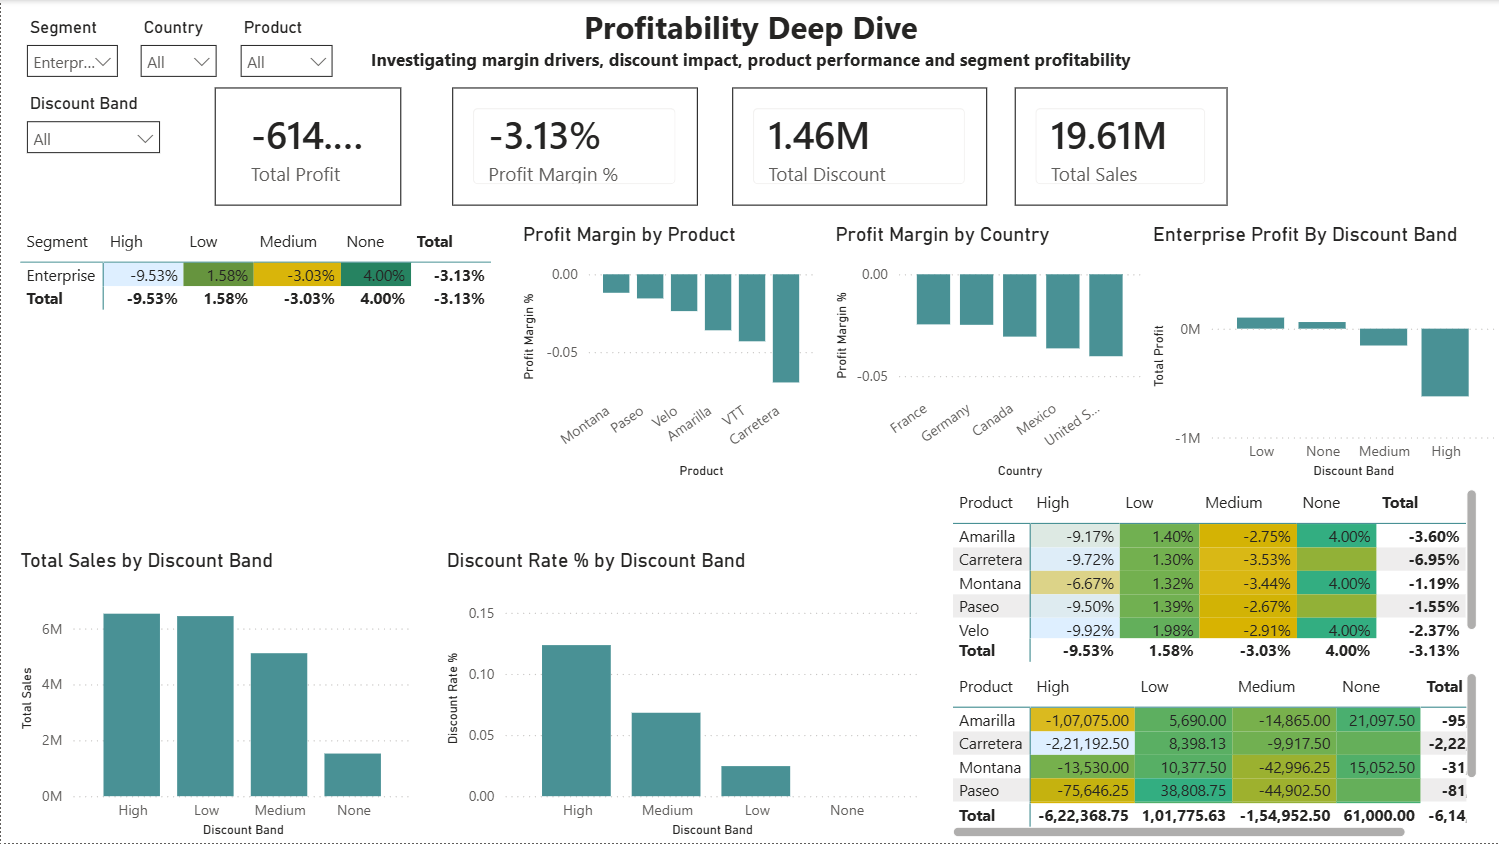

Layout of this report page (visuals, bound fields, positions):
{"tool":"powerbi","page":{"name":"Profitability Deep Dive","canvas":[1280,720],"ordinal":1},"visuals":[{"type":"textbox","box":[291.9,0,695.4,74.4],"z":0},{"type":"slicer","fields":{"Values":["FinancialData.Segment"]},"box":[11.6,9.3,97.7,65.1],"z":1000},{"type":"slicer","fields":{"Values":["FinancialData.Country"]},"box":[109.3,9.3,84.9,65.1],"z":2000},{"type":"slicer","fields":{"Values":["FinancialData.Product"]},"box":[194.2,9.3,98.8,65.1],"z":3000},{"type":"slicer","fields":{"Values":["FinancialData.Discount Band"]},"box":[11.6,74.4,133.7,67.4],"z":4000},{"type":"cardVisual","fields":{"Data":["FinancialData.Total Profit"]},"box":[182.6,74.4,159.3,101.2],"z":5000},{"type":"cardVisual","fields":{"Data":["FinancialData.Profit Margin %"]},"box":[384.9,74.4,209.3,101.2],"z":6000},{"type":"cardVisual","fields":{"Data":["FinancialData.Total Discount"]},"box":[624.4,74.4,217.4,101.2],"z":7000},{"type":"cardVisual","fields":{"Data":["FinancialData.Total Sales"]},"box":[865.1,74.4,181.4,101.2],"z":8000},{"type":"pivotTable","fields":{"Values":["FinancialData.Profit Margin %"],"Rows":["FinancialData.Segment"],"Columns":["FinancialData.Discount Band"]},"box":[11.6,189.5,412.8,167.4],"z":9000},{"type":"lineClusteredColumnComboChart","title":"Profit Margin by Product","fields":{"Category":["FinancialData.Product"],"Y":["FinancialData.Profit Margin %"]},"box":[440.7,189.5,258.1,223.3],"z":10000},{"type":"clusteredColumnChart","title":"Profit Margin by Country","fields":{"Category":["FinancialData.Country"],"Y":["FinancialData.Profit Margin %"]},"box":[707,189.5,270.9,223.3],"z":11000},{"type":"clusteredColumnChart","title":"Enterprise Profit By Discount Band","fields":{"Category":["FinancialData.Discount Band"],"Y":["FinancialData.Total Profit"]},"box":[977.9,189.5,302.3,223.3],"z":12000},{"type":"clusteredColumnChart","fields":{"Y":["FinancialData.Total Sales"],"Category":["FinancialData.Discount Band"]},"box":[11.6,468.6,345,251],"z":13000},{"type":"clusteredColumnChart","fields":{"Y":["FinancialData.Discount Rate %"],"Category":["FinancialData.Discount Band"]},"box":[375.6,468.6,413,251],"z":14000},{"type":"pivotTable","fields":{"Rows":["FinancialData.Product"],"Columns":["FinancialData.Discount Band"],"Values":["FinancialData.Profit Margin %"]},"box":[808.1,412.8,457,157],"z":15000},{"type":"pivotTable","fields":{"Rows":["FinancialData.Product"],"Columns":["FinancialData.Discount Band"],"Values":["FinancialData.Total Profit"]},"box":[808.1,569.8,457,150],"z":16000}]}

Visuals, with their boxes in screenshot pixels (x1, y1, x2, y2), scaled from the page's 1280x720 canvas onto the 1499x844 screenshot:
textbox: {"x1": 342, "y1": 0, "x2": 1156, "y2": 87}
slicer - FinancialData.Segment: {"x1": 14, "y1": 11, "x2": 128, "y2": 87}
slicer - FinancialData.Country: {"x1": 128, "y1": 11, "x2": 227, "y2": 87}
slicer - FinancialData.Product: {"x1": 227, "y1": 11, "x2": 343, "y2": 87}
slicer - FinancialData.Discount Band: {"x1": 14, "y1": 87, "x2": 170, "y2": 166}
cardVisual - FinancialData.Total Profit: {"x1": 214, "y1": 87, "x2": 400, "y2": 206}
cardVisual - FinancialData.Profit Margin %: {"x1": 451, "y1": 87, "x2": 696, "y2": 206}
cardVisual - FinancialData.Total Discount: {"x1": 731, "y1": 87, "x2": 986, "y2": 206}
cardVisual - FinancialData.Total Sales: {"x1": 1013, "y1": 87, "x2": 1226, "y2": 206}
pivotTable - FinancialData.Profit Margin % x FinancialData.Segment: {"x1": 14, "y1": 222, "x2": 497, "y2": 418}
"Profit Margin by Product" lineClusteredColumnComboChart: {"x1": 516, "y1": 222, "x2": 818, "y2": 484}
"Profit Margin by Country" clusteredColumnChart: {"x1": 828, "y1": 222, "x2": 1145, "y2": 484}
"Enterprise Profit By Discount Band" clusteredColumnChart: {"x1": 1145, "y1": 222, "x2": 1498, "y2": 484}
clusteredColumnChart - FinancialData.Total Sales x FinancialData.Discount Band: {"x1": 14, "y1": 549, "x2": 418, "y2": 843}
clusteredColumnChart - FinancialData.Discount Rate % x FinancialData.Discount Band: {"x1": 440, "y1": 549, "x2": 924, "y2": 843}
pivotTable - FinancialData.Product x FinancialData.Discount Band: {"x1": 946, "y1": 484, "x2": 1482, "y2": 668}
pivotTable - FinancialData.Product x FinancialData.Discount Band: {"x1": 946, "y1": 668, "x2": 1482, "y2": 843}
